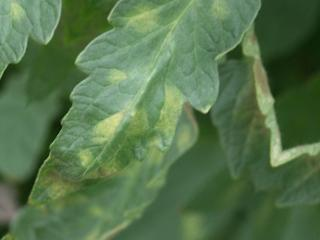Tomato mold leaf: (0, 0, 285, 240)
